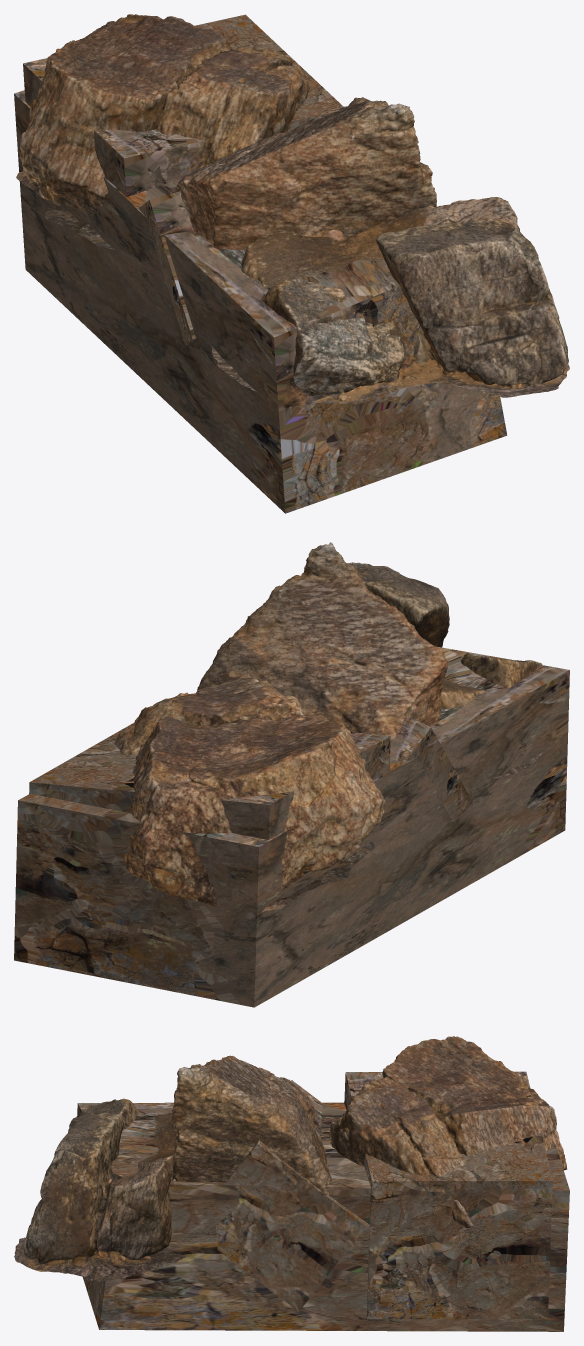
File: Rock_Cube.fbx
3 renders of one model, top to bottom at view 1: azimuth 30°, elevation 25°; view 2: azimuth 150°, elevation 25°; view 3: azimuth 270°, elevation 25°, orthographic. The views are drawn at different scales.
Parts seen in each view (by area): view 1: Rock_Inst_12_LOD0, Cube.002; view 2: Cube.002, Rock_Inst_12_LOD0; view 3: Cube.002, Rock_Inst_12_LOD0.
Boxes of the visible parts, <box> form: Rock_Inst_12_LOD0: <box>16,14,569,403</box>; Cube.002: <box>14,14,507,513</box>; Cube.002: <box>14,646,569,1007</box>; Rock_Inst_12_LOD0: <box>114,542,543,916</box>; Cube.002: <box>77,1071,569,1331</box>; Rock_Inst_12_LOD0: <box>14,1036,567,1281</box>.
Bounding box in the file's own units: 133 × 123 × 252.
Materials: 2 (2 with a texture image).
